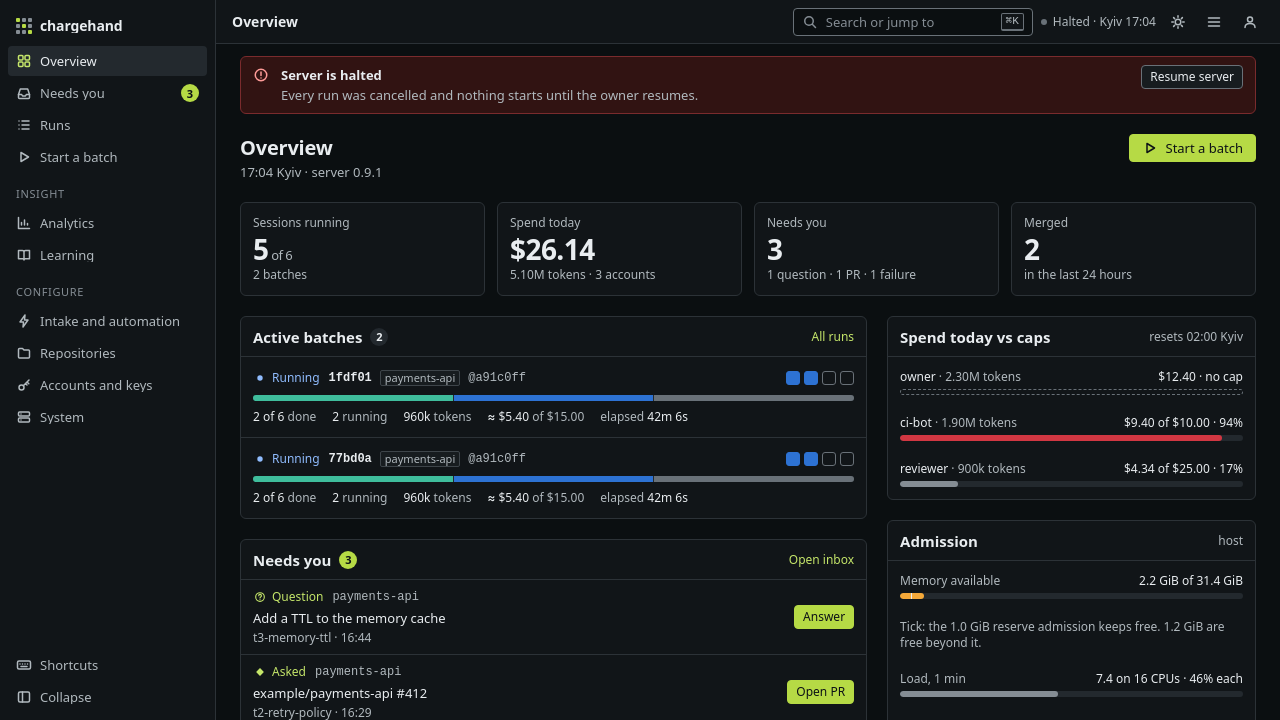
Overview halted and paused › shows the halted state to everyone: a banner, a Resume server button, no Halt button
Click the button "Resume server" at (1192, 77), box [1141, 65, 1243, 89]
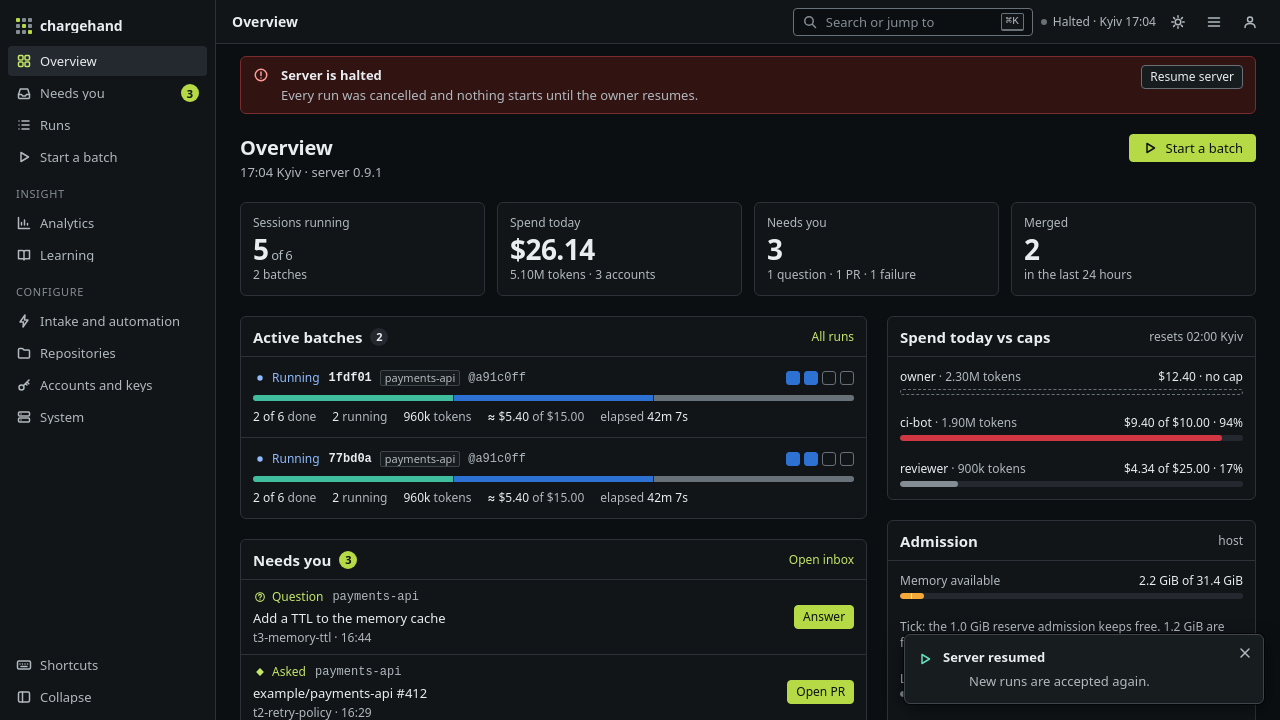
Now the text "Server resumed" is shown, box [943, 648, 1045, 666]
